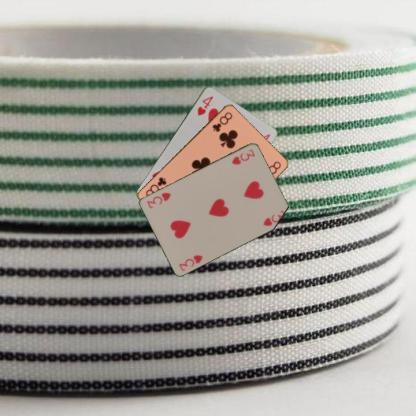3h: (228, 146, 256, 166), (176, 252, 204, 272)
4h: (194, 93, 214, 117)
8c: (210, 110, 233, 132)
